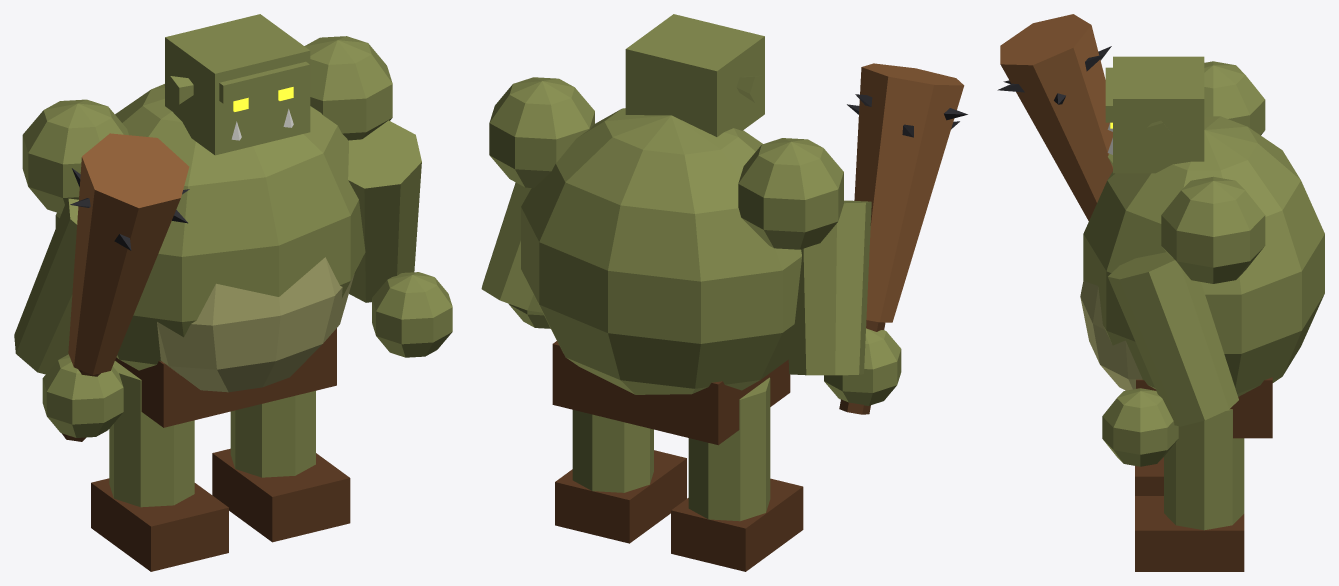
Rendered from Boss_Ogre.fbx.
The picture shows the model from 3 angles, left to right: view 1: azimuth 30°, elevation 25°; view 2: azimuth 150°, elevation 25°; view 3: azimuth 270°, elevation 25°; orthographic projection. The views are drawn at different scales.
Parts seen in each view (by area): view 1: Boss_Body, Boss_Weapon; view 2: Boss_Body, Boss_Weapon; view 3: Boss_Body, Boss_Weapon.
Boxes of the visible parts, <box> form: Boss_Body: <box>14,14,452,571</box>; Boss_Weapon: <box>62,133,189,441</box>; Boss_Body: <box>481,14,901,571</box>; Boss_Weapon: <box>839,63,967,414</box>; Boss_Body: <box>1080,56,1324,571</box>; Boss_Weapon: <box>997,14,1112,220</box>.
Bounding box in the file's own units: 2.47 × 2.72 × 1.8.
